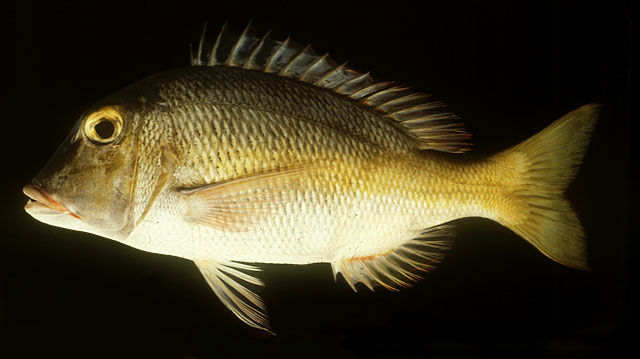fish: (22, 23, 602, 337)
